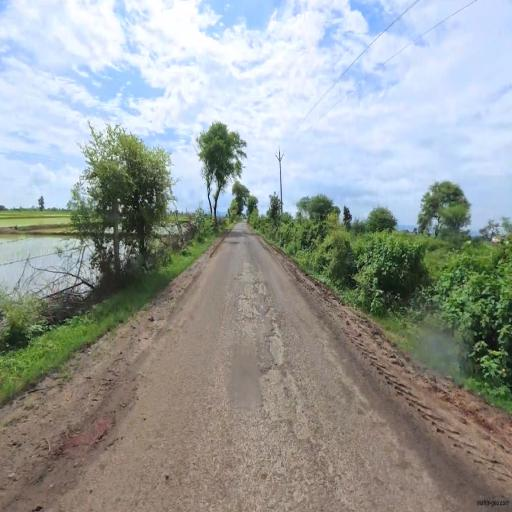ravelling: (224, 245, 291, 476)
